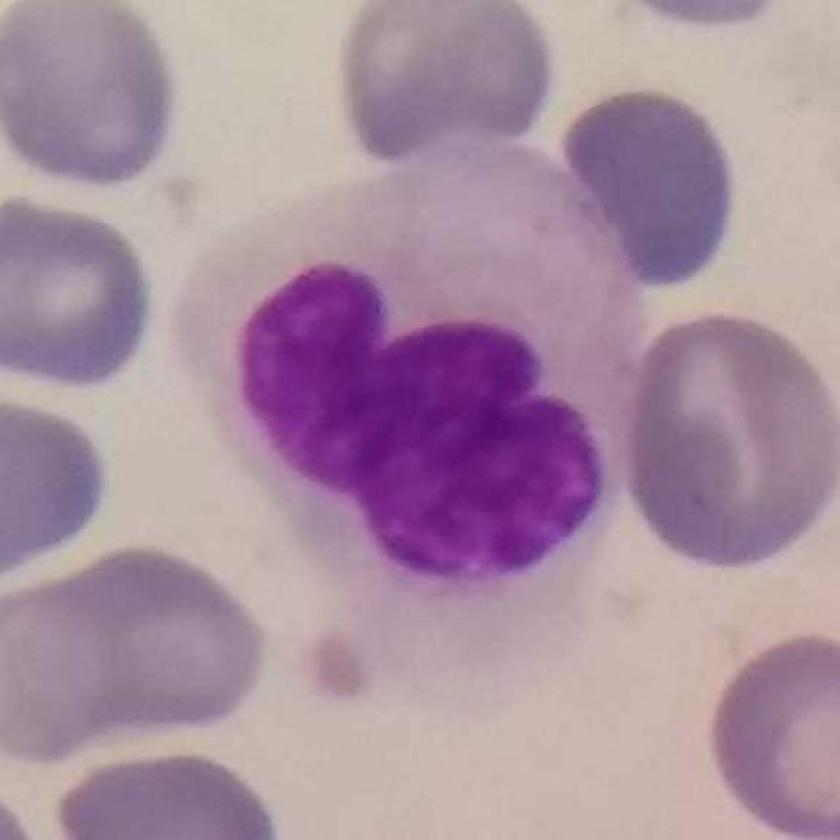monocyte: (170, 134, 656, 699)
